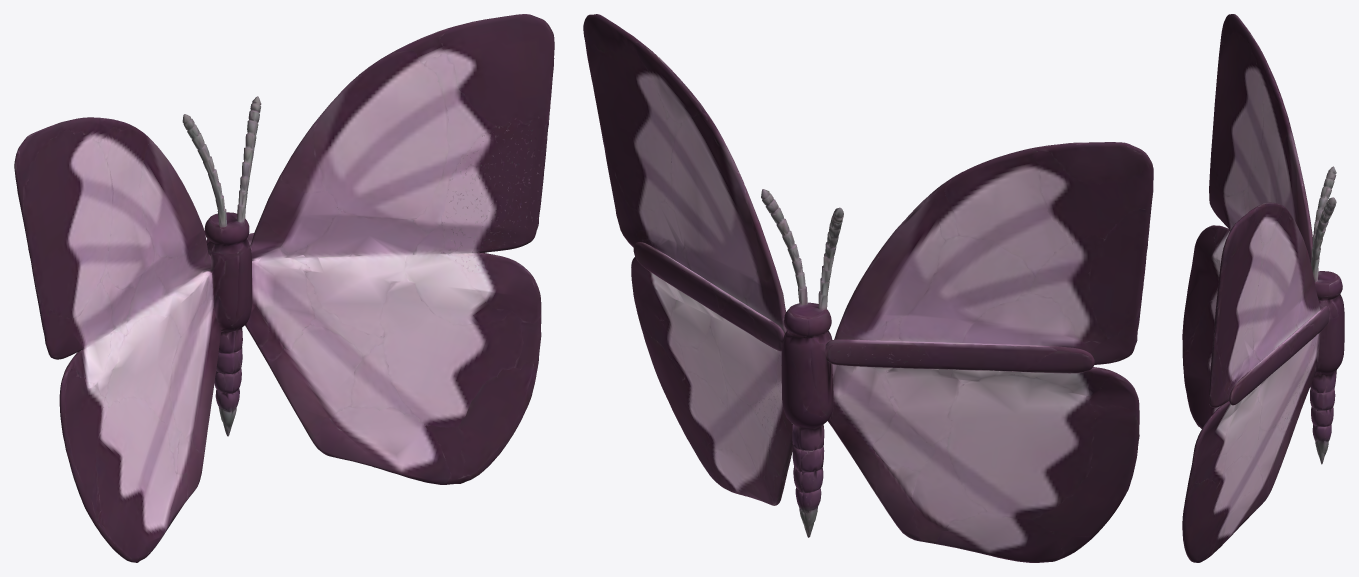
Rendered from purplebutterfly.glb.
The picture shows the model from 3 angles, left to right: view 1: azimuth 30°, elevation 25°; view 2: azimuth 150°, elevation 25°; view 3: azimuth 270°, elevation 25°; orthographic projection. The views are drawn at different scales.
Parts seen in each view (by area): view 1: node_0; view 2: node_0; view 3: node_0.
Part boxes in pixels (<box>): node_0: <box>14,14,554,562</box>; node_0: <box>583,14,1153,562</box>; node_0: <box>1182,14,1344,562</box>.
Size of the model in its own units: 0.9712 by 0.7476 by 0.2923.
1 material, 1 textured.
